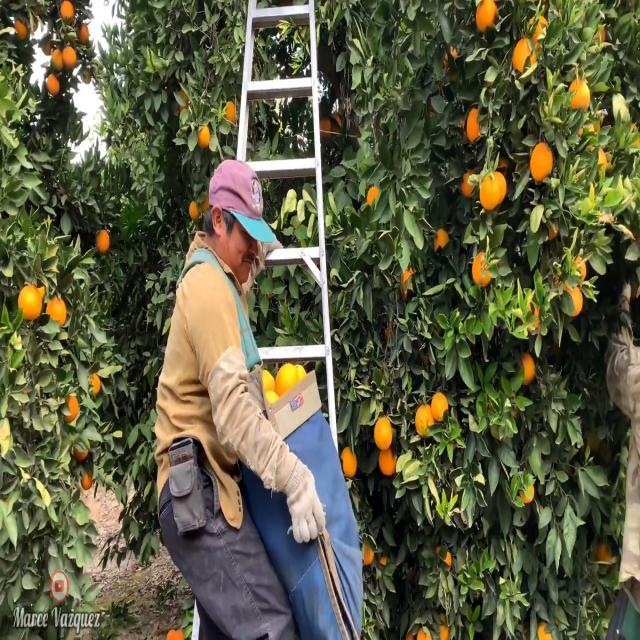Jeruk Sudah Matang: (511, 37, 542, 80), (480, 172, 508, 214), (529, 140, 555, 185), (14, 283, 40, 321), (559, 280, 584, 318), (466, 105, 490, 144), (511, 474, 537, 509), (474, 0, 502, 30), (412, 402, 434, 439), (60, 388, 80, 428), (47, 294, 69, 330), (375, 446, 402, 474), (400, 268, 422, 302), (568, 81, 588, 117), (472, 250, 492, 286), (430, 390, 450, 425), (592, 142, 609, 182), (516, 353, 536, 386), (436, 540, 456, 572), (374, 416, 394, 446), (84, 369, 104, 399), (361, 530, 376, 569), (433, 227, 453, 256), (221, 99, 240, 128), (460, 170, 477, 202), (341, 442, 356, 477), (95, 228, 112, 258), (71, 438, 90, 464), (195, 122, 212, 148), (58, 1, 75, 25), (367, 186, 382, 213), (44, 72, 60, 95), (76, 23, 93, 44), (64, 46, 78, 70), (80, 471, 94, 490)
